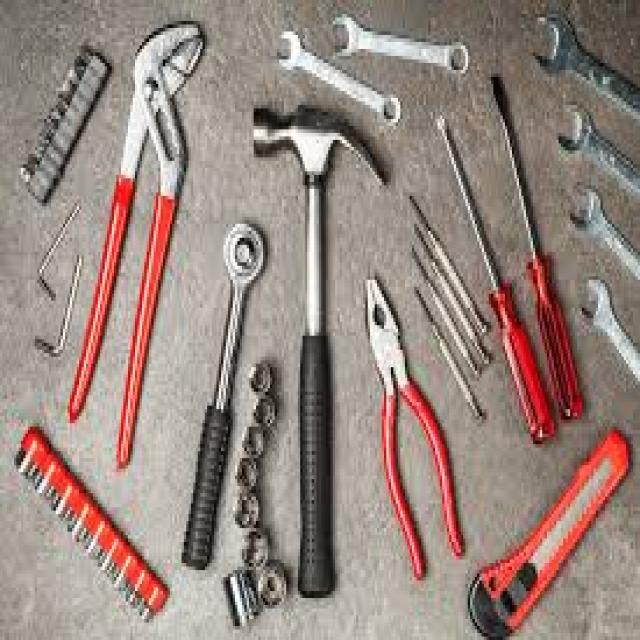Screwdriver: (438, 116, 555, 442), (493, 77, 583, 418)
